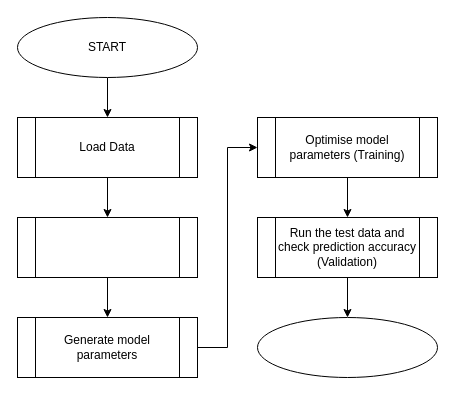
Image size: 455x395. Some labels were removed from this diagram. Here are the shapes that lost their labels. From the top down, the box of each, then its label:
(16, 216, 198, 278): Initialise variables
(256, 316, 438, 378): END
